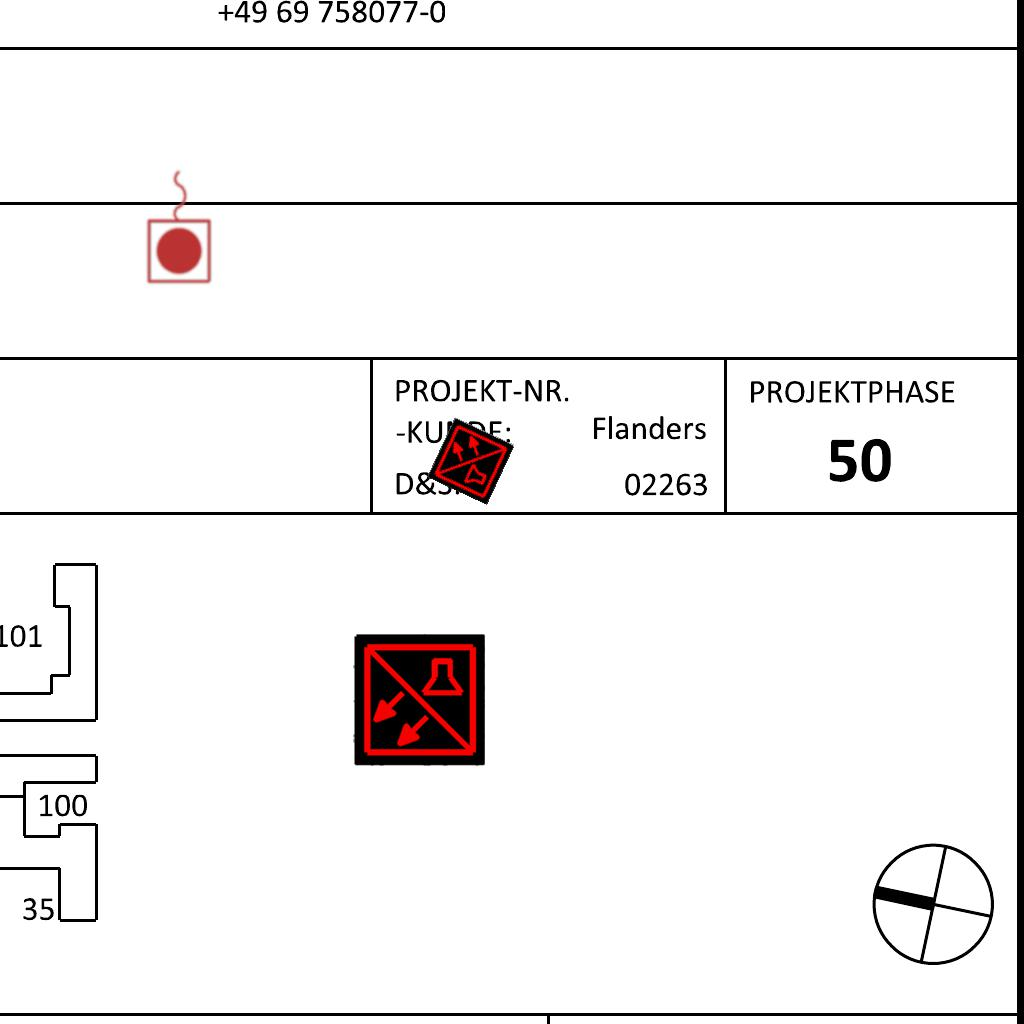OKW_Multisensormelder_(Kombination_optischer_Rauch-Kahlenmonoxid_Waerme-Melder): (353, 634, 485, 766), (427, 417, 515, 505)
Zugtaster: (144, 165, 216, 287)
